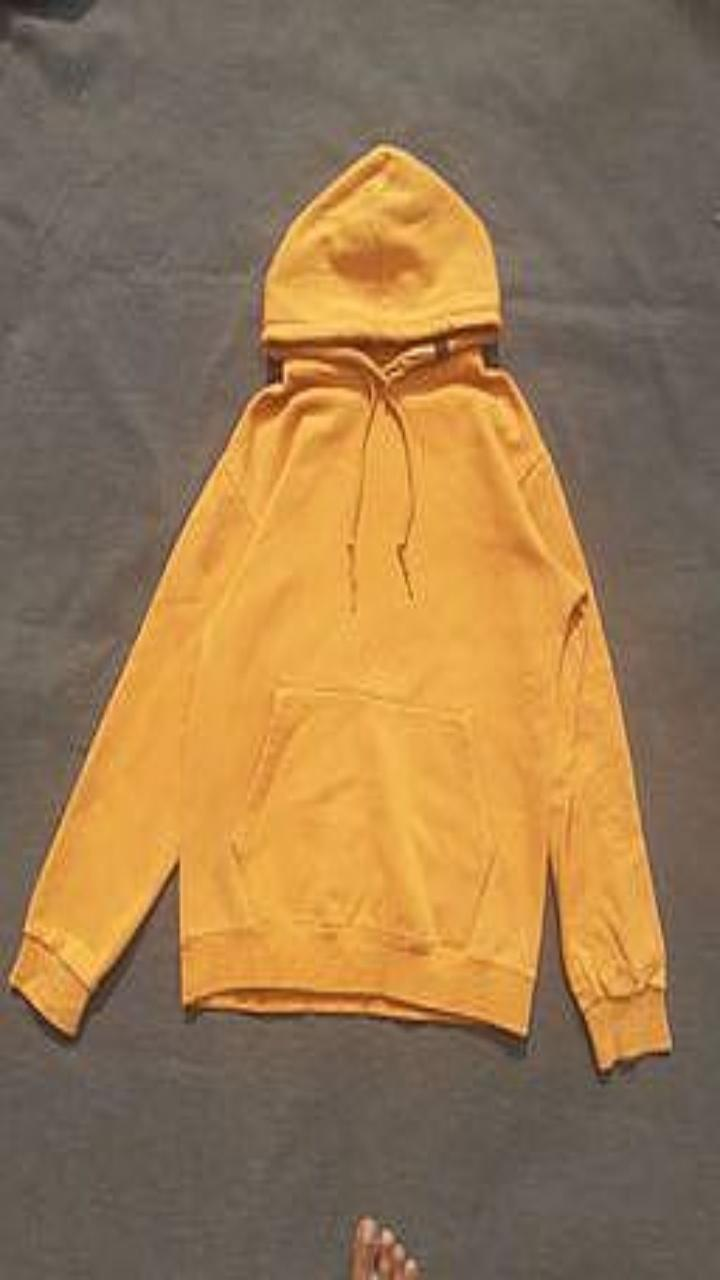Hoodie: (9, 145, 670, 1068)
